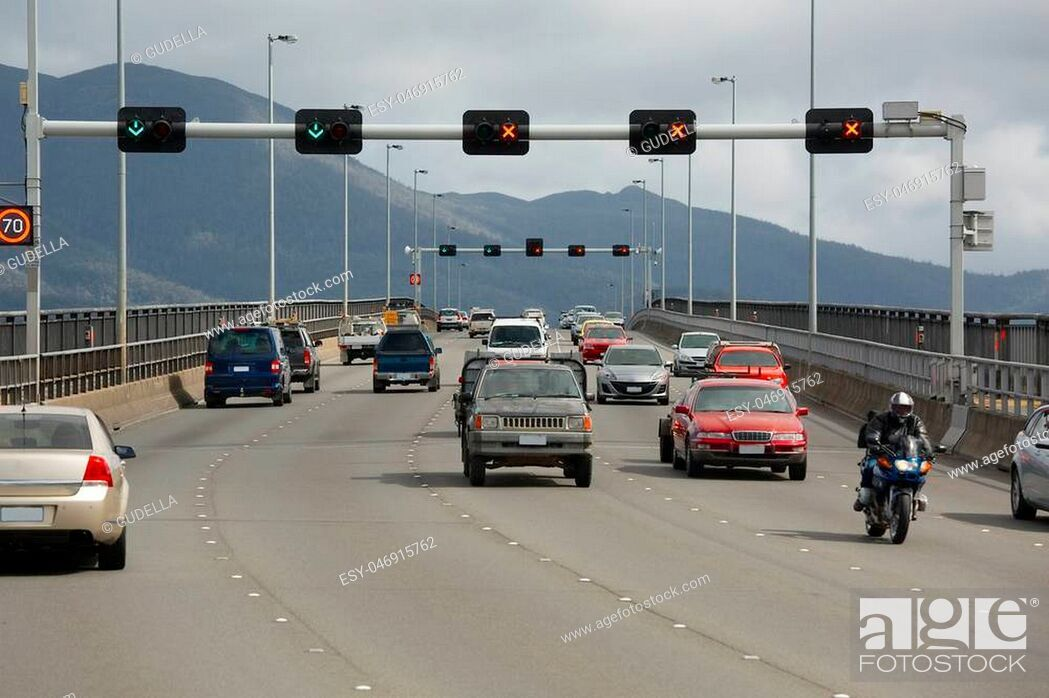bridge: (27, 99, 965, 155), (409, 239, 654, 258)
